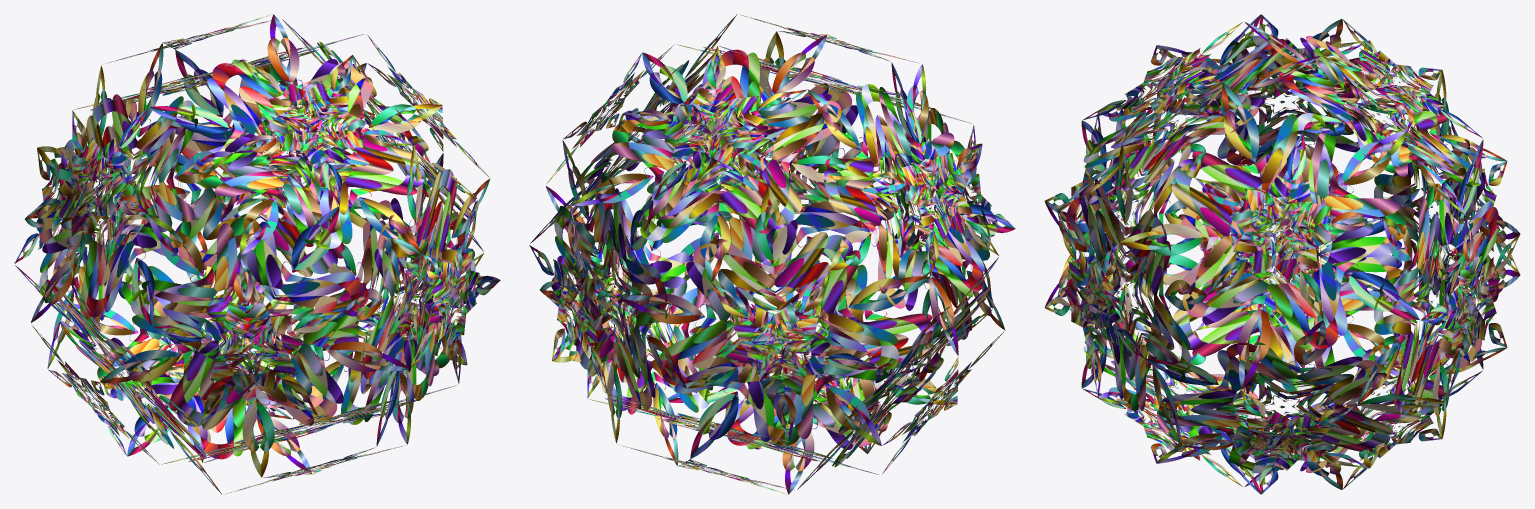
The model's file is 8SnubDodecadodecahedron.gltf.
3 renders of one model, left to right at view 1: azimuth 30°, elevation 25°; view 2: azimuth 150°, elevation 25°; view 3: azimuth 270°, elevation 25°, orthographic.
Visible parts, largest first — view 1: 7SnubDodecadodecahedron; view 2: 7SnubDodecadodecahedron; view 3: 7SnubDodecadodecahedron.
Boxes of the visible parts, x1,y1,x2,y2 form: 7SnubDodecadodecahedron: (14,14,500,494); 7SnubDodecadodecahedron: (529,14,1015,494); 7SnubDodecadodecahedron: (1044,14,1520,494).
Size of the model in its own units: 2.48 by 2.48 by 2.48.
1 material, 1 textured.
